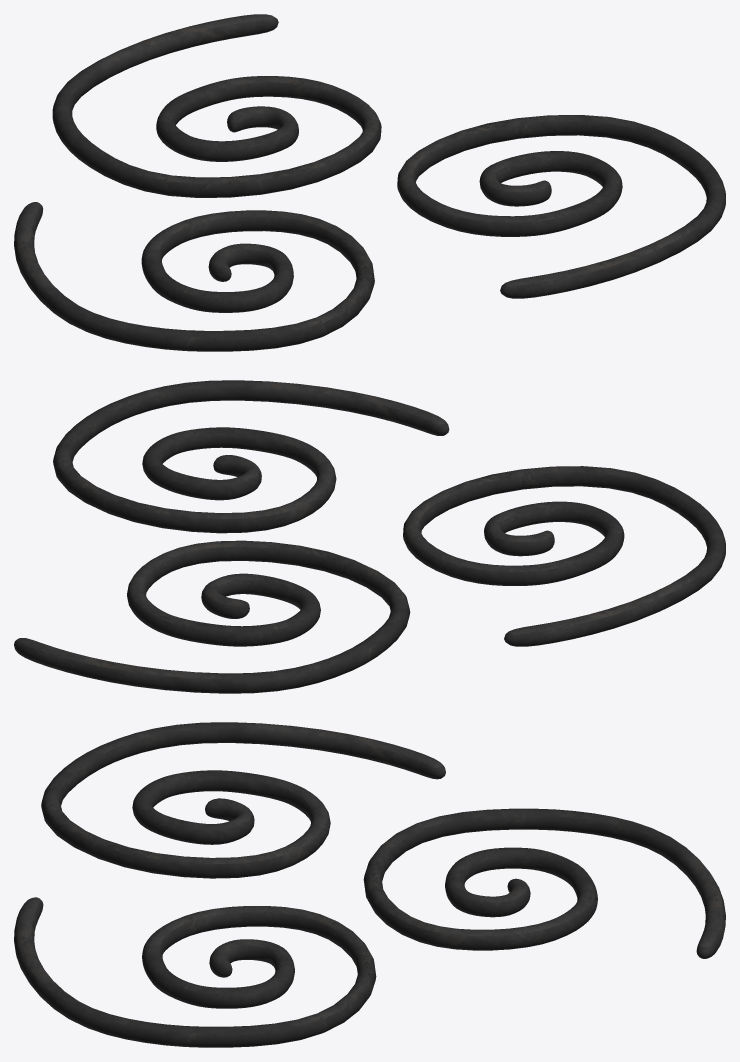
Rendered from Air.fbx.
The picture shows the model from 3 angles, top to bottom: view 1: azimuth 30°, elevation 25°; view 2: azimuth 150°, elevation 25°; view 3: azimuth 270°, elevation 25°; orthographic projection. The views are drawn at different scales.
Parts seen in each view (by area): view 1: Air; view 2: Air; view 3: Air.
Part boxes in pixels (x1,y1,x2,y2): Air: (14,14,725,351); Air: (14,380,725,693); Air: (14,722,725,1047).
Bounding box in the file's own units: 652 × 18.33 × 627.
